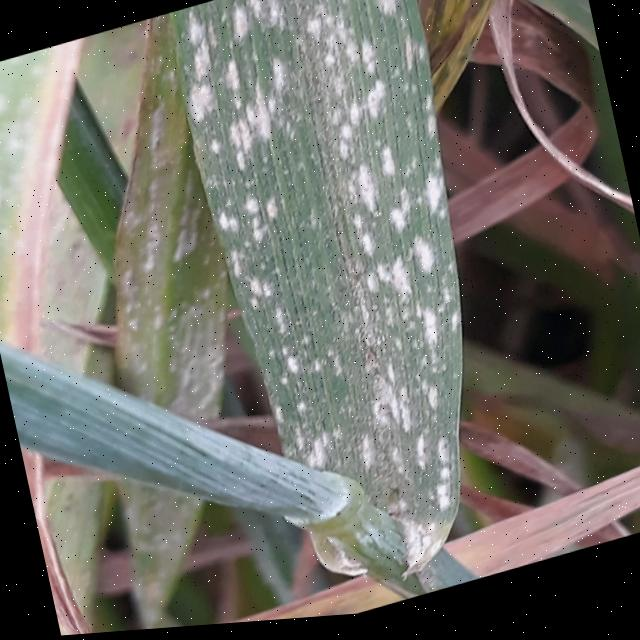powder_mildew: (173, 0, 539, 630), (44, 9, 263, 472), (0, 36, 157, 459), (33, 458, 255, 638), (485, 74, 635, 259), (391, 0, 572, 147), (443, 459, 640, 592)
